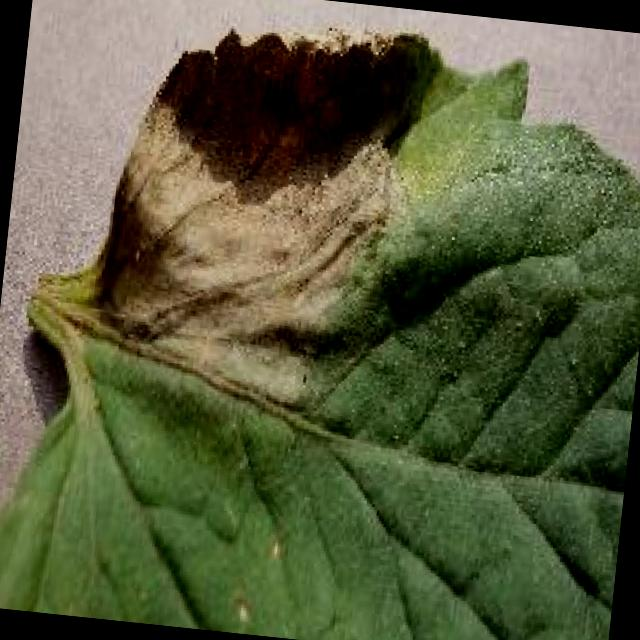leaf blight: (0, 28, 640, 640)
